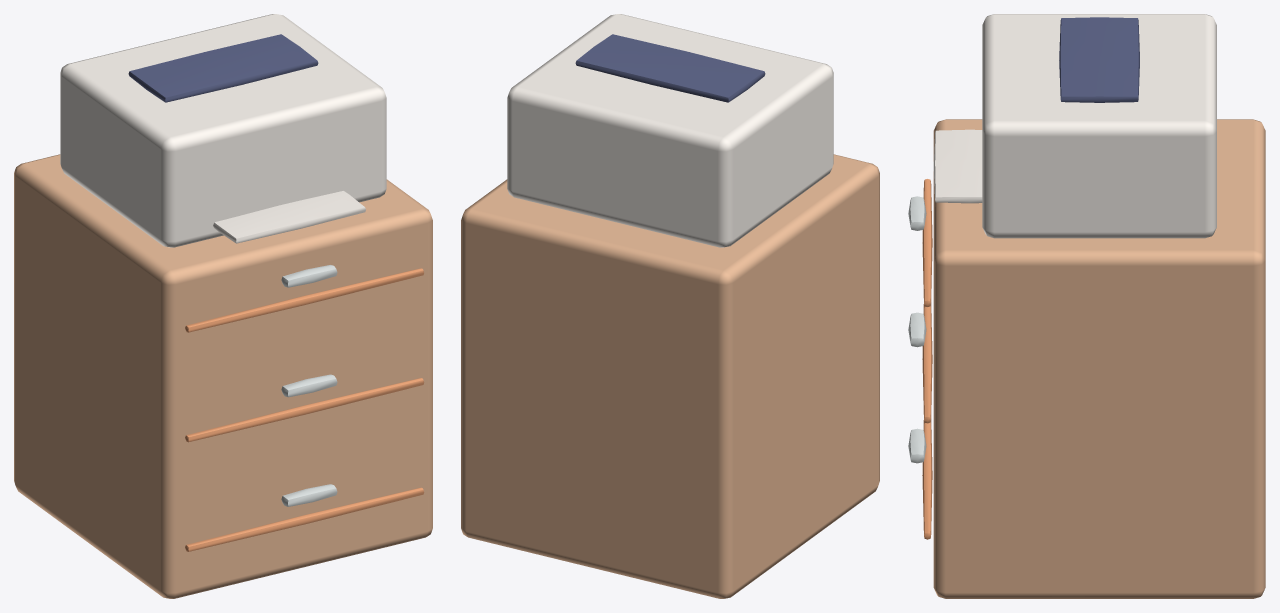
The model's file is printer-stand.glb.
3 views of the same model, side by side, from view 1: azimuth 30°, elevation 25°; view 2: azimuth 150°, elevation 25°; view 3: azimuth 270°, elevation 25° (orthographic). The views are drawn at different scales.
Visible parts, largest first — view 1: part (×10); view 2: part (×3); view 3: part (×10).
Boxes of the visible parts, <box> form: part (×10): <box>14,14,432,598</box>; part (×3): <box>461,14,879,598</box>; part (×10): <box>908,14,1265,598</box>.
Size of the model in its own units: 0.82 by 1.3 by 0.8825.
Materials: 1 (1 with a texture image).
